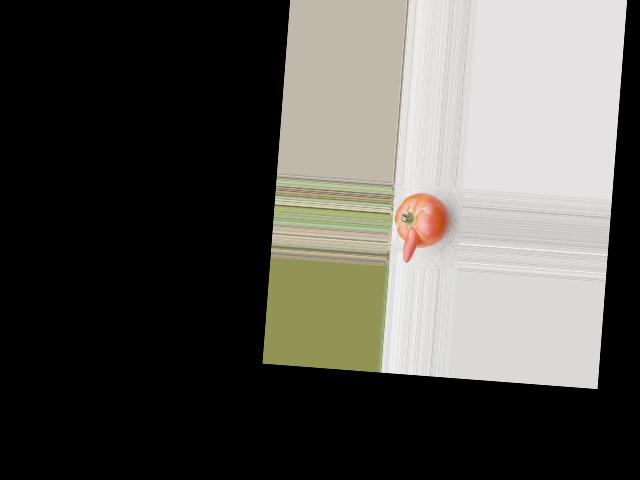tomato: (393, 190, 450, 249)
